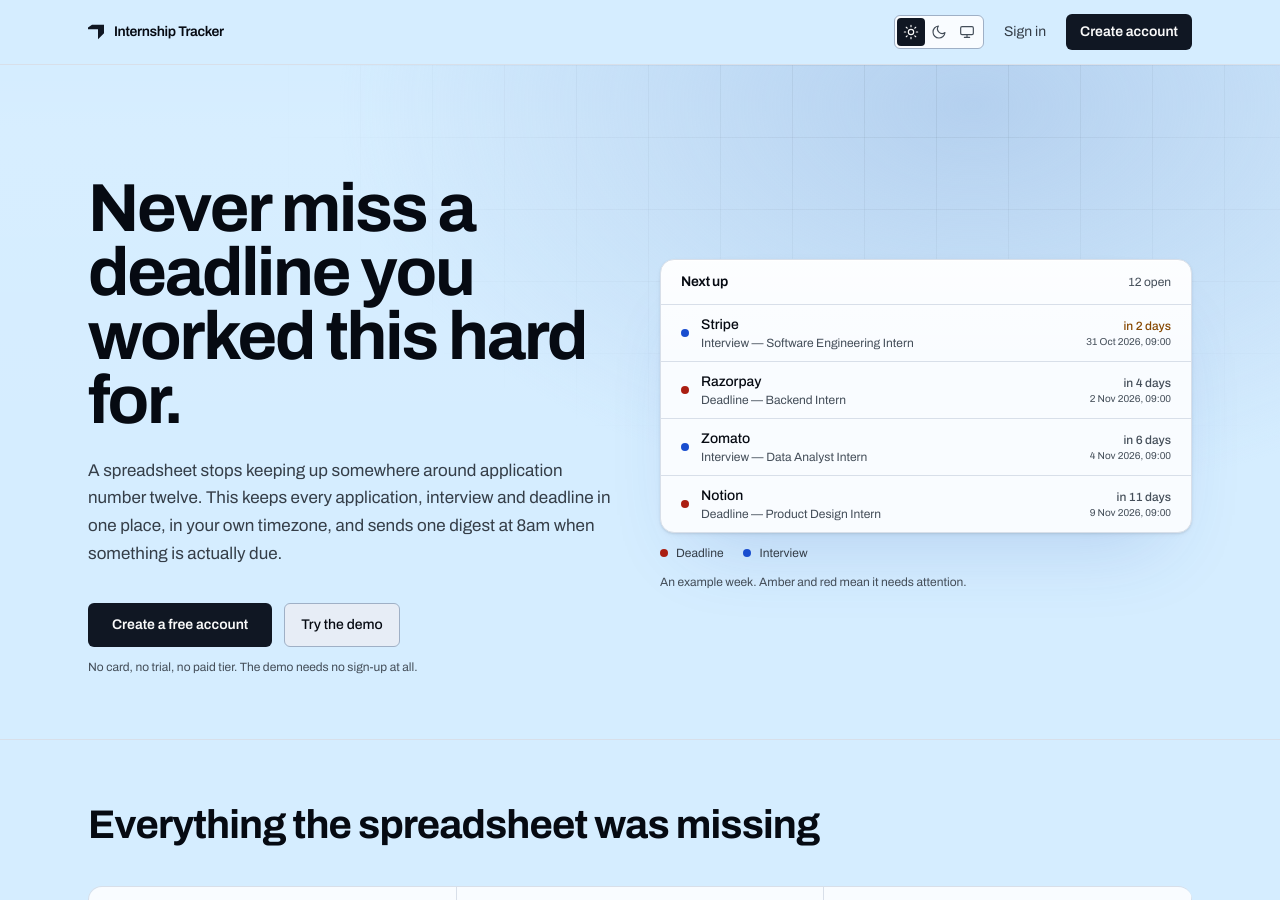
Scenario: signing out of the demo › leaves the visitor with the theme they had before entering it
The width and height of the screenshot is (1280, 900).
Expected: the heading "Never miss a deadline you worked this hard for." is shown, [88,177,614,433]
Step 1. Click the button "Try the demo" → (342, 625), box [284,603,400,647]
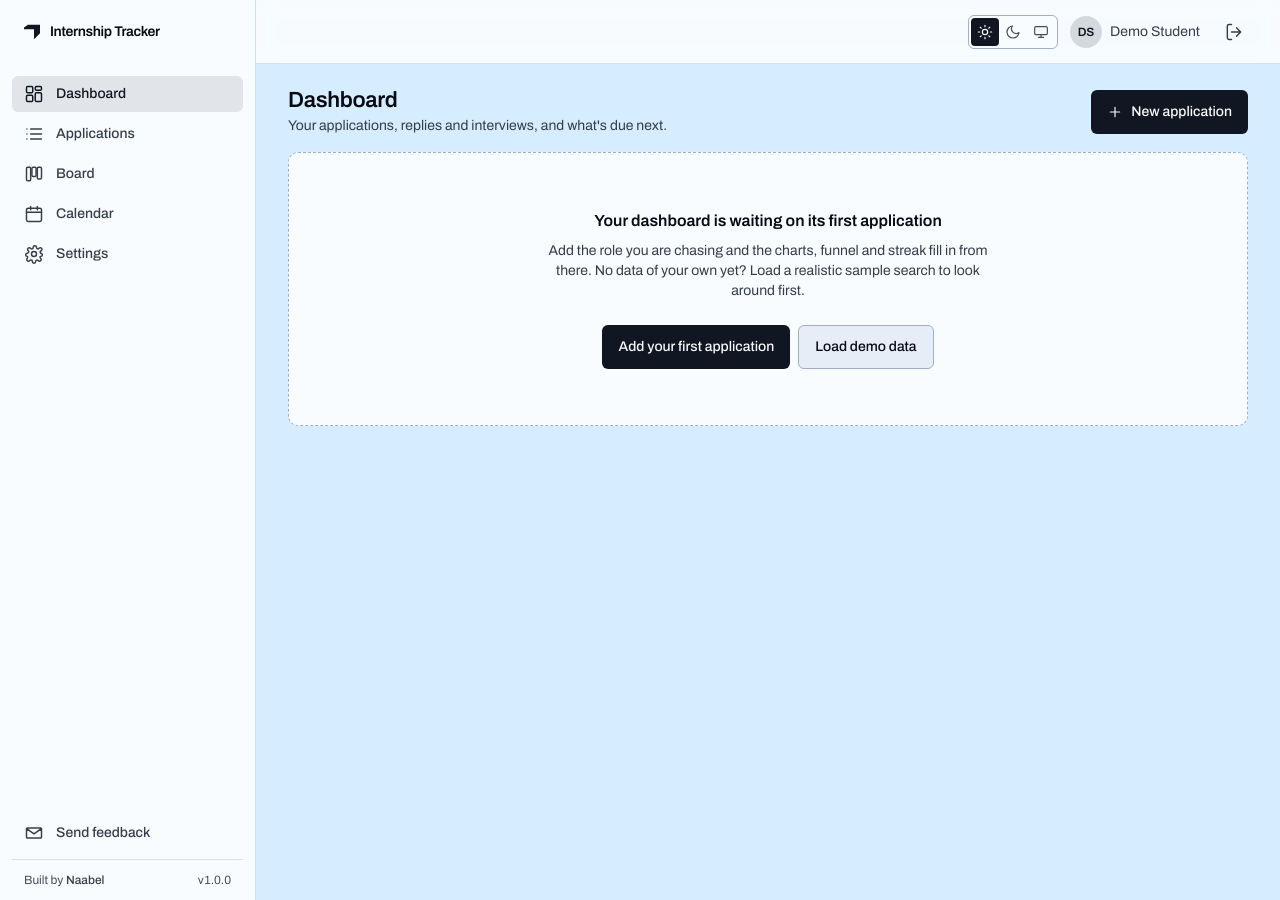
Step 2. Click the button named "Sign out" → (1234, 32), box [1212,14,1256,50]
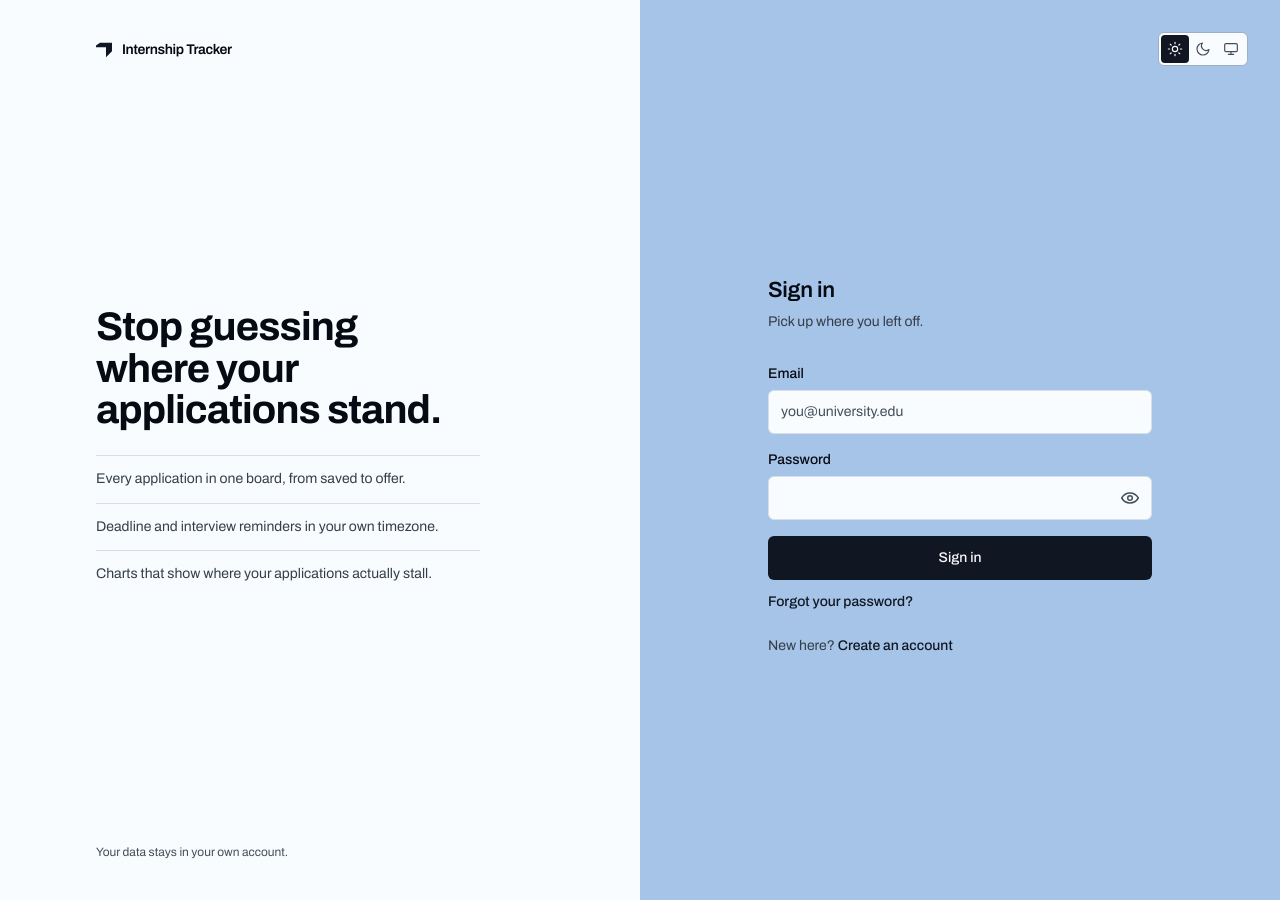
Expected: the button "Sign in" is shown, [768,536,1152,580]
